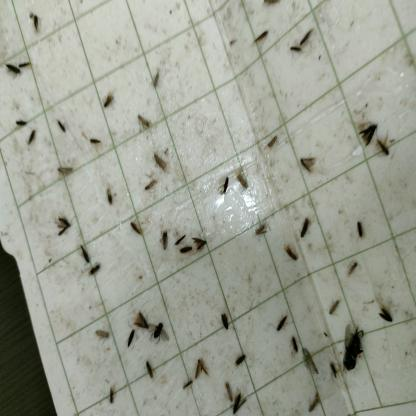prays_oleae: (56, 204, 77, 238), (192, 358, 214, 387), (356, 122, 380, 148), (192, 229, 210, 263), (374, 134, 394, 164), (130, 304, 148, 336), (135, 109, 156, 136), (322, 292, 342, 320), (152, 315, 170, 346), (376, 297, 393, 328), (253, 216, 273, 242), (305, 386, 323, 414), (126, 213, 144, 240), (274, 308, 292, 334), (294, 212, 310, 240), (345, 250, 359, 282), (93, 324, 109, 351), (149, 63, 162, 96), (142, 352, 156, 382), (214, 306, 229, 334), (10, 110, 31, 130), (54, 112, 70, 138), (252, 30, 272, 50), (144, 172, 160, 197), (3, 59, 22, 80), (298, 154, 316, 176), (78, 238, 92, 266), (178, 373, 198, 392), (153, 150, 168, 175), (232, 388, 246, 414), (54, 162, 74, 180), (286, 240, 301, 264), (87, 132, 103, 154), (232, 349, 248, 371), (264, 130, 280, 152), (238, 165, 249, 197), (125, 329, 140, 351), (290, 334, 301, 363), (102, 186, 116, 208), (159, 229, 170, 256), (302, 27, 316, 48), (106, 378, 116, 407), (328, 356, 340, 380), (288, 42, 306, 58), (221, 174, 232, 200), (180, 244, 197, 260), (174, 228, 186, 250), (356, 221, 366, 244), (26, 130, 40, 146), (18, 56, 32, 72), (30, 12, 40, 34), (100, 94, 112, 109), (89, 268, 104, 276)
